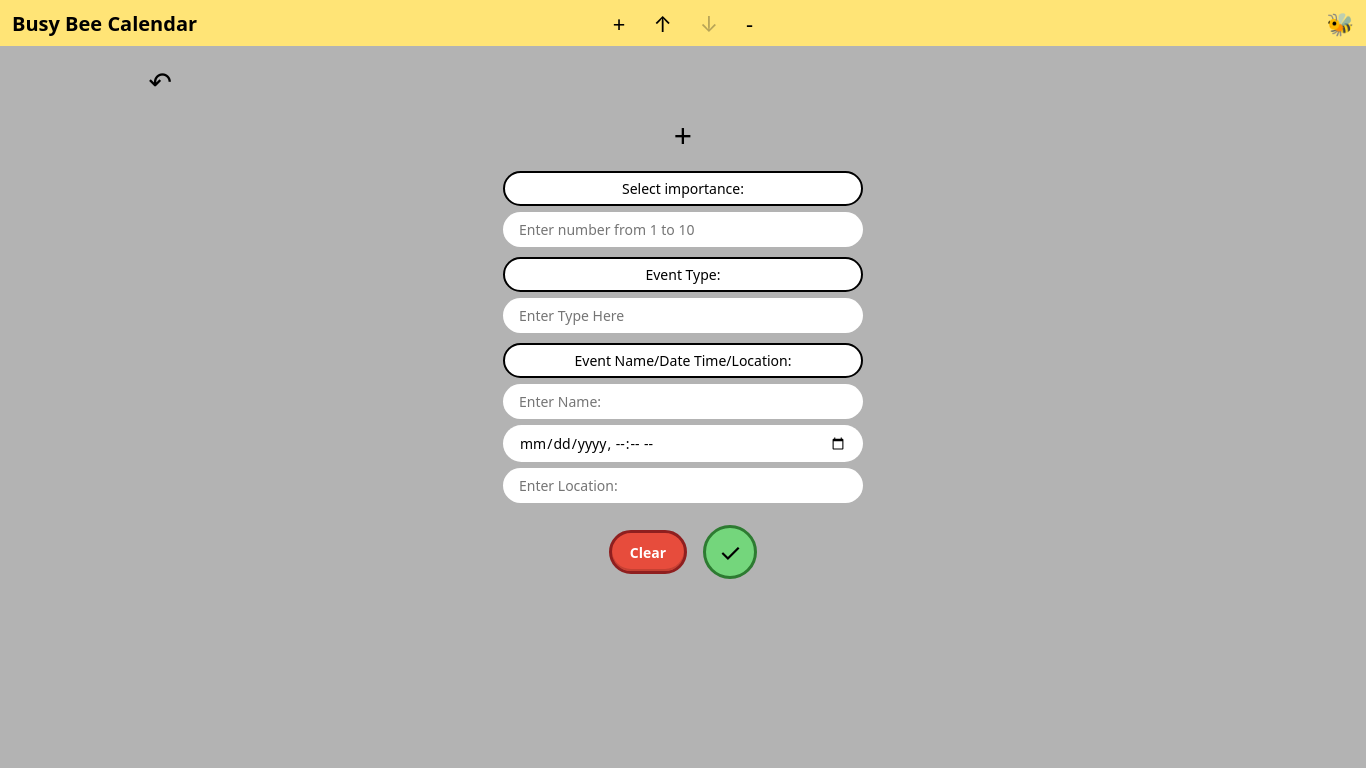
Scenario: AddEvent › clears inputs when Clear is clicked
In the number field with placeholder "Enter number from 1 to 10": (683, 230) [503,212,863,247], type "3"
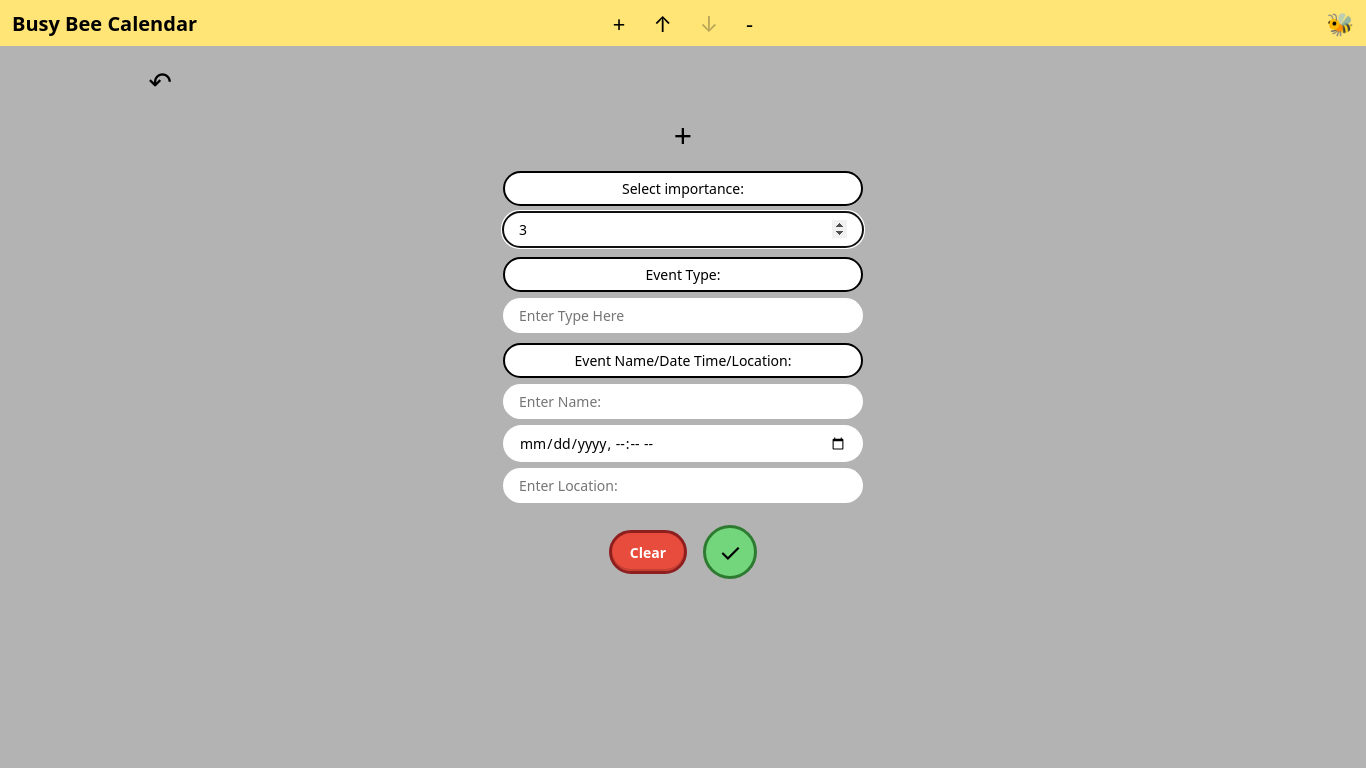
In the field with placeholder "Enter Type Here": (683, 316) [503,298,863,333], type "Meetup"
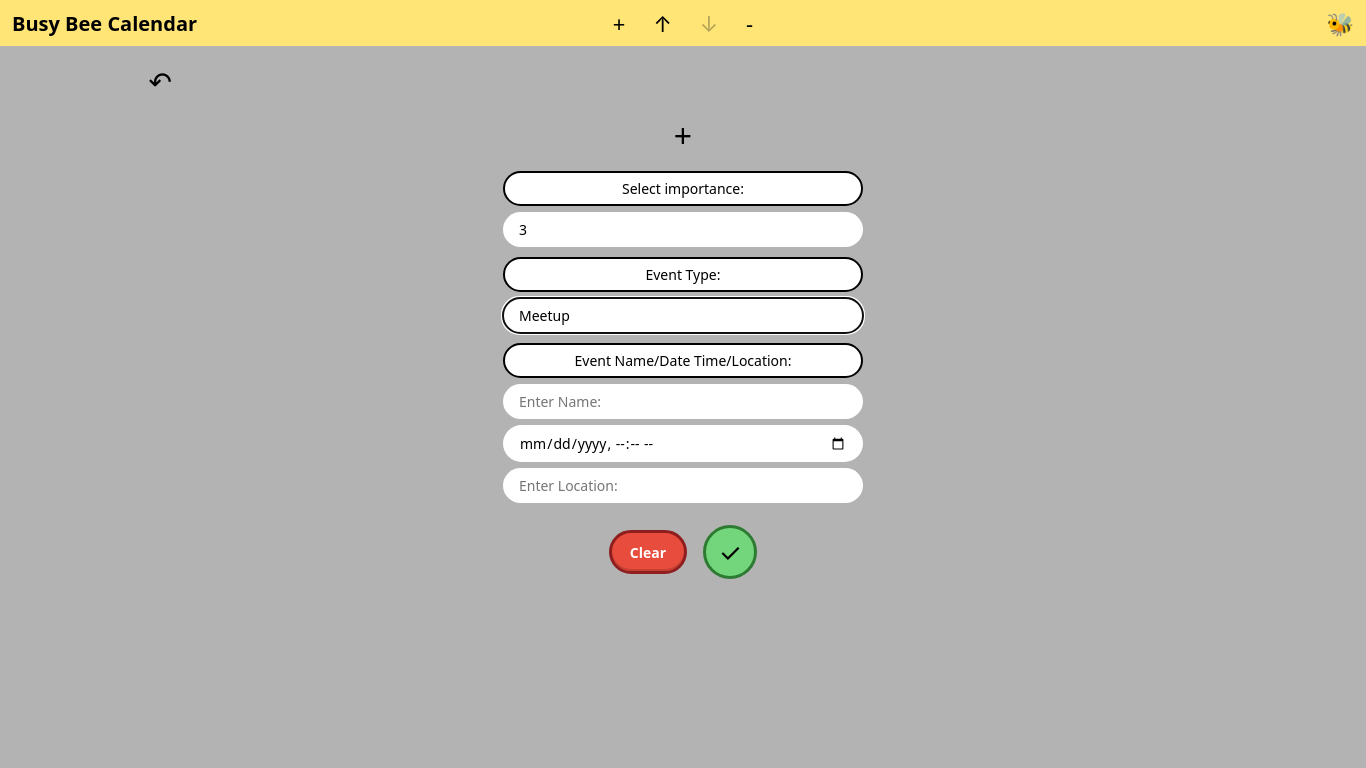
Click the button "Clear": (648, 552) [609,530,687,574]
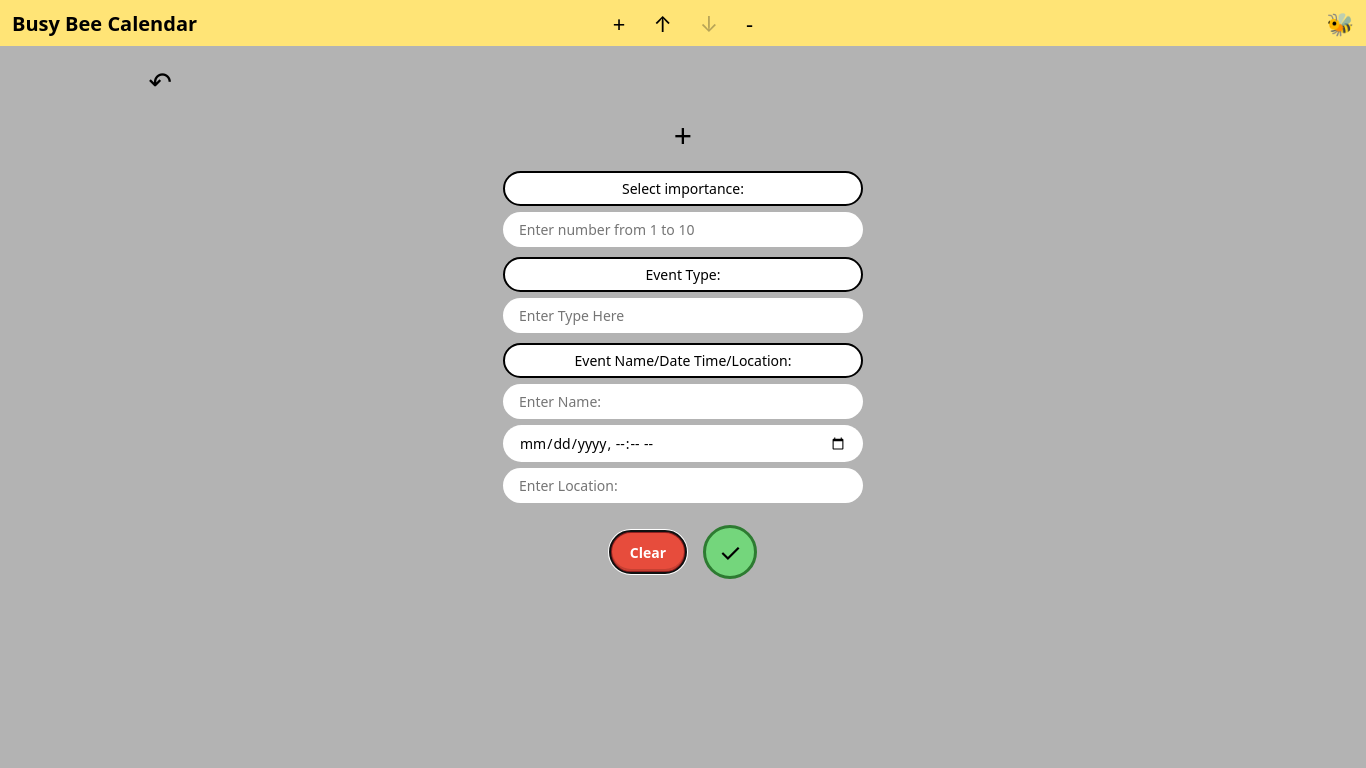
Now the number field with placeholder "Enter number from 1 to 10" is not empty, box [503,212,863,247]
Now the field with placeholder "Enter Type Here" is empty, box [503,298,863,333]
